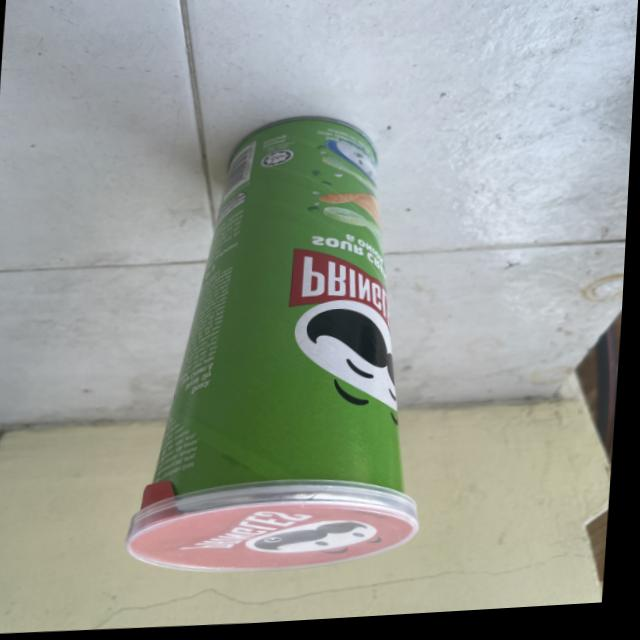a pringles: (124, 106, 454, 589)
